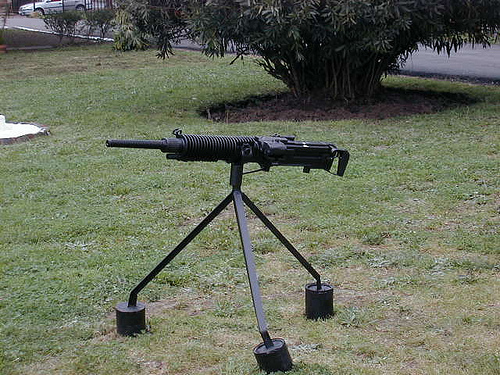rifle: (81, 99, 386, 371)
